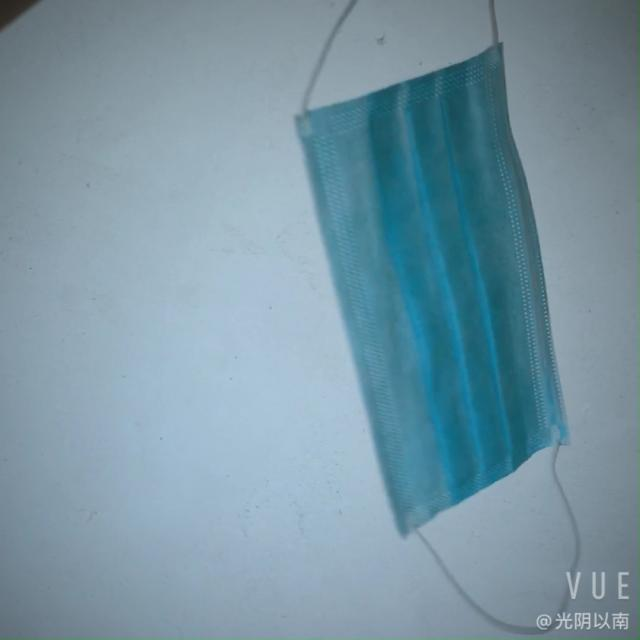non-organic waste: (337, 46, 562, 564)
